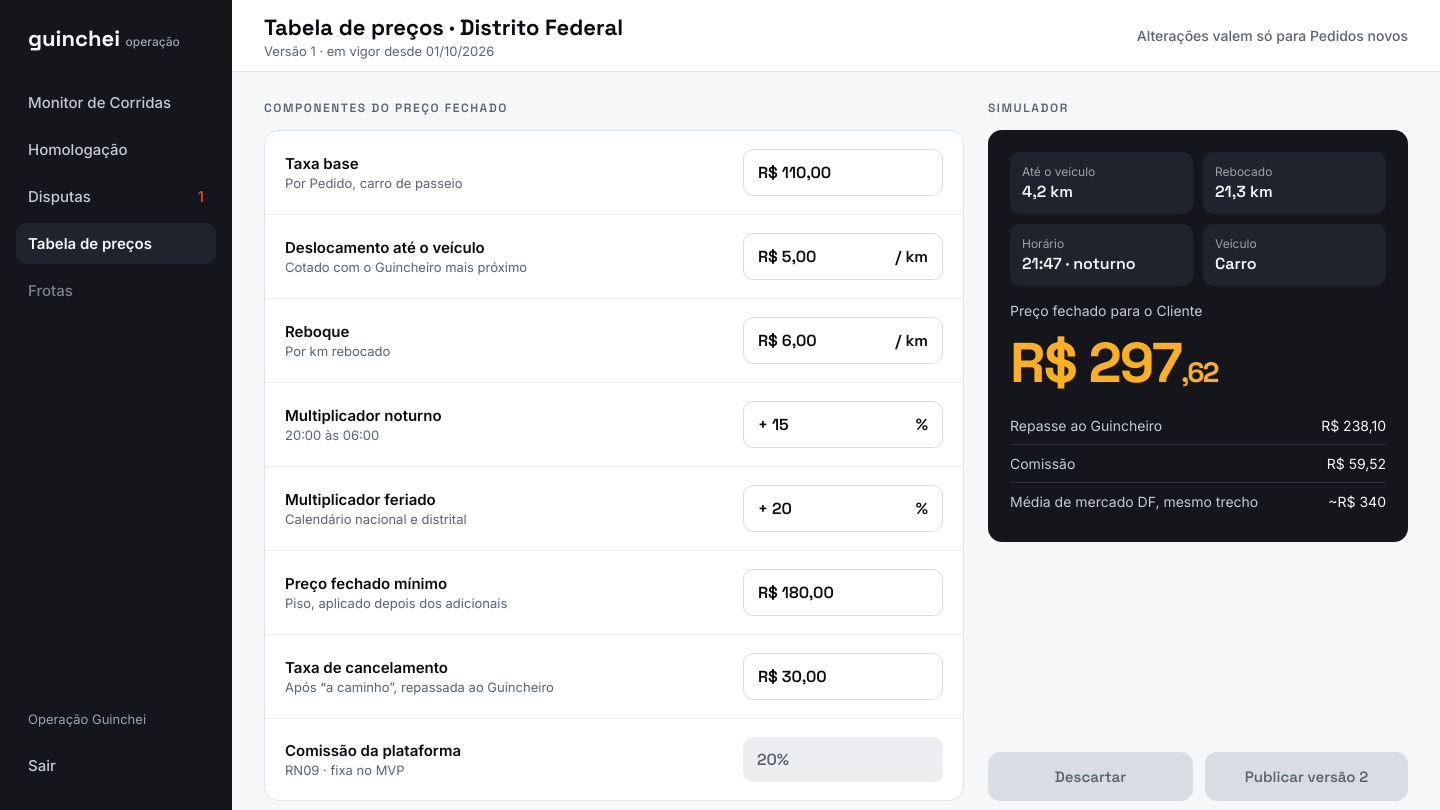
App painel › o simulador recalcula o Preço fechado ao editar a tabela
The width and height of the screenshot is (1440, 810).
Expected: the navigation bar named "Painel de operação" is shown, [0,0,232,809]
Expected: the text "R$ 297" is shown, [1010,327,1181,398]
Replace the text in the field named "Reboque" with "7,00" at (836, 340), box [782,330,891,351]
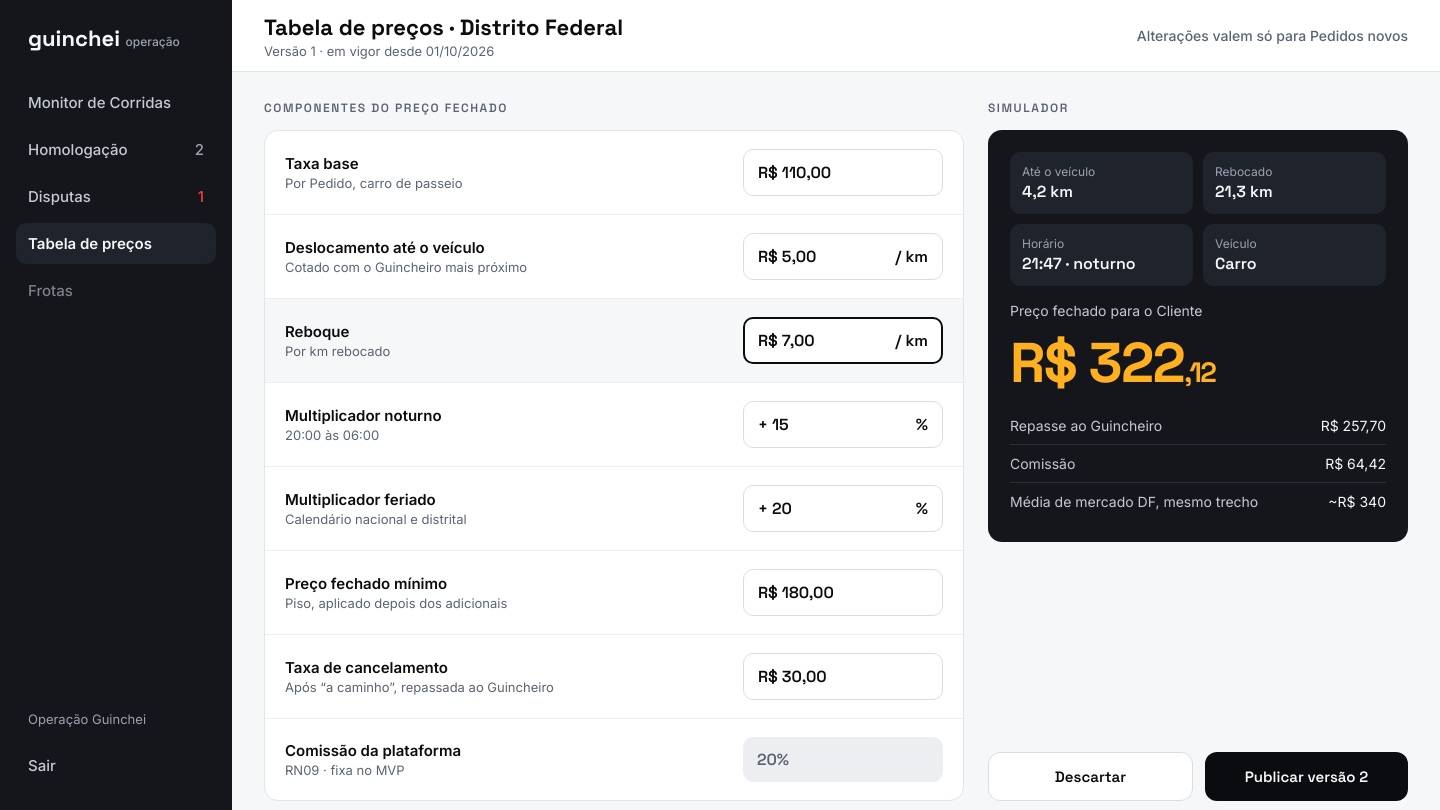
Expected: the text "R$ 322" is shown, [1010,327,1184,398]
